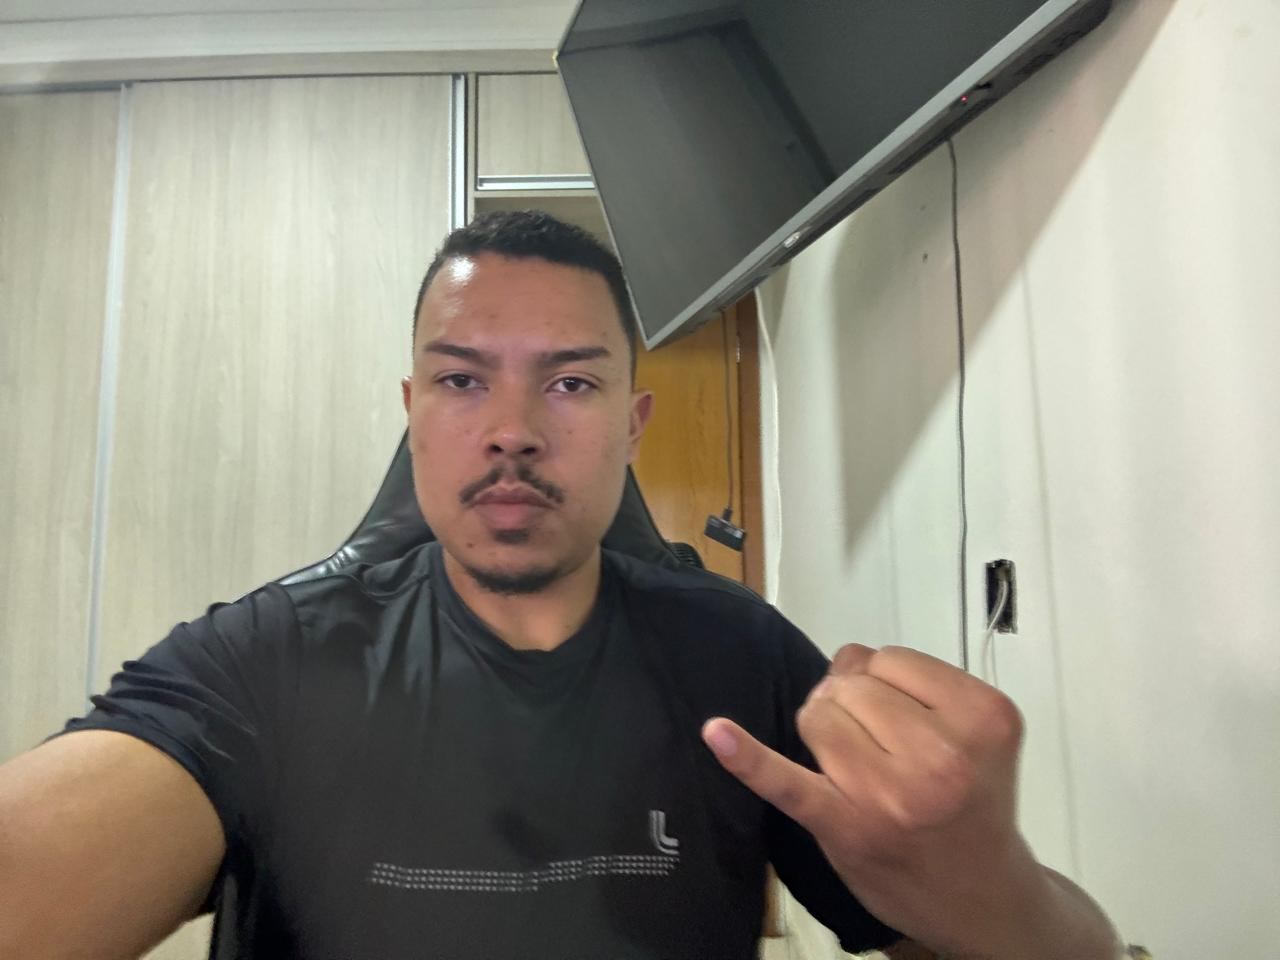j: (684, 627, 1082, 941)
